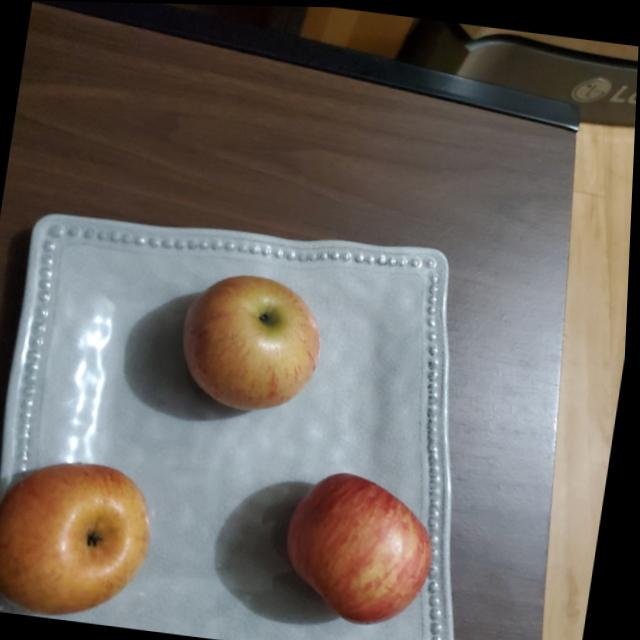apple: (0, 454, 165, 627), (285, 468, 453, 633), (176, 264, 335, 423)
